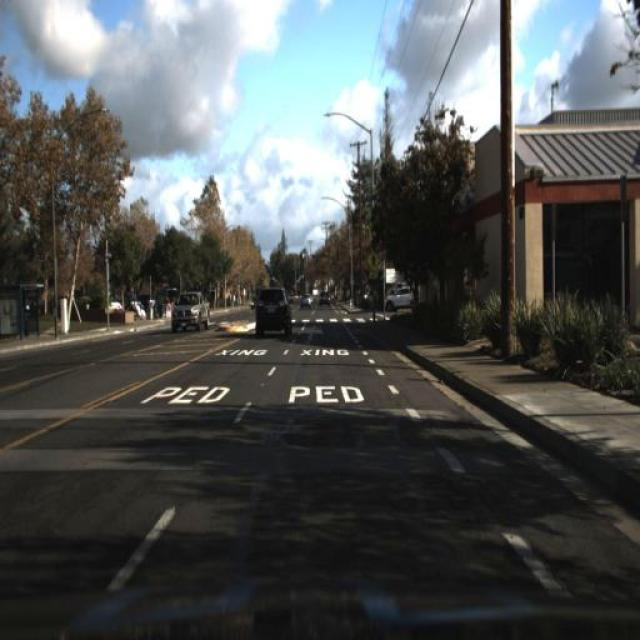car: (246, 278, 298, 350), (253, 288, 291, 341), (170, 284, 212, 331), (384, 284, 420, 312), (316, 284, 334, 310), (296, 292, 313, 312)
trafficLight: (368, 286, 380, 322)
